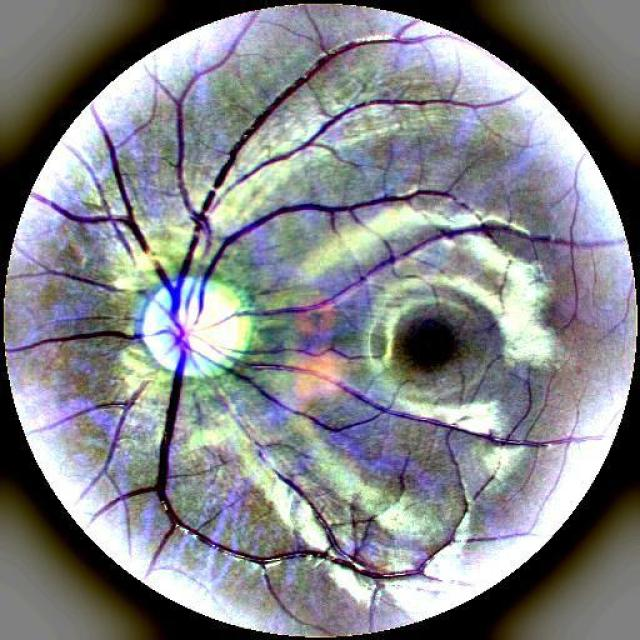Macula: (394, 318, 458, 370)
Nerves: (31, 15, 584, 320), (94, 335, 428, 623), (6, 316, 175, 365)
Optic Disk: (139, 278, 252, 375)
